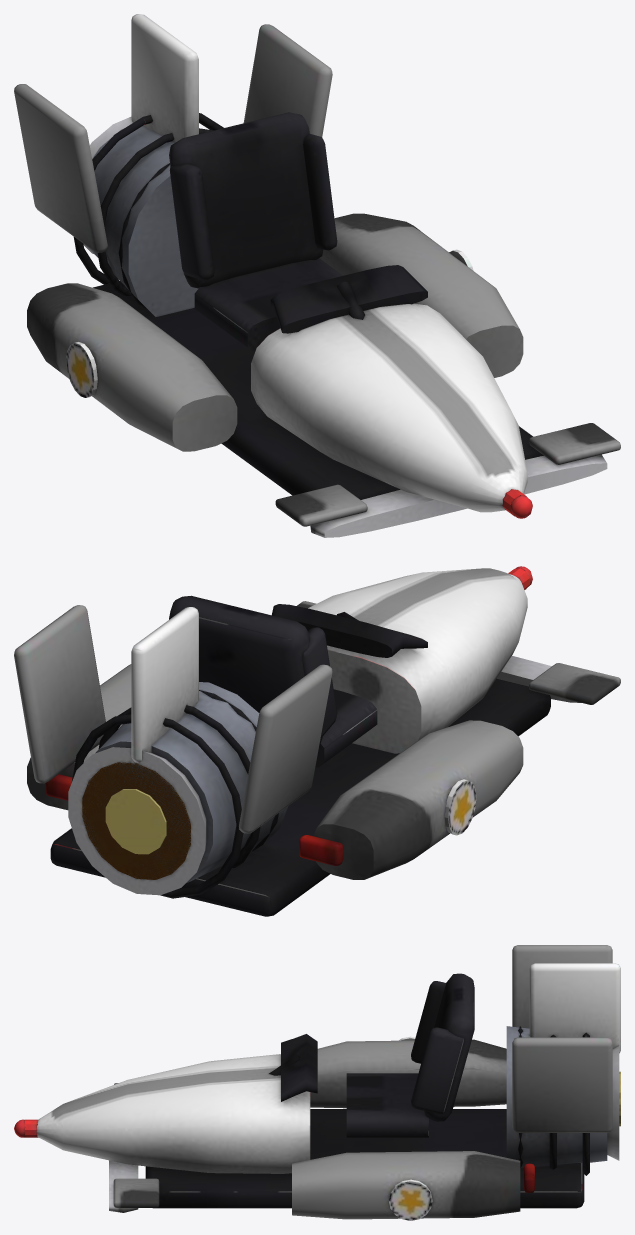
Rendered from body_rocket.glb.
3 renders of one model, top to bottom at view 1: azimuth 30°, elevation 25°; view 2: azimuth 150°, elevation 25°; view 3: azimuth 270°, elevation 25°, orthographic. The views are drawn at different scales.
Visible parts, largest first — view 1: Body; view 2: Body; view 3: Body.
Part boxes in pixels (left/top/right/bottom): Body: left=14, top=14, right=620, bottom=537; Body: left=14, top=566, right=620, bottom=916; Body: left=14, top=945, right=620, bottom=1220.
Size of the model in its own units: 1.87 by 1.23 by 3.32.
Materials: 3 (3 with a texture image).
